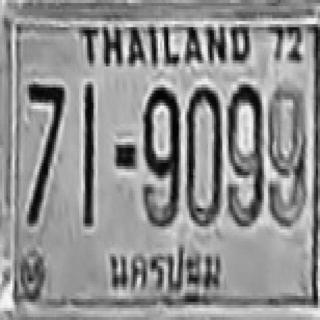N00: (266, 82, 306, 224), (141, 85, 179, 223), (185, 85, 220, 223)
N01: (82, 82, 94, 224)
N07: (26, 82, 64, 224)
N09: (266, 82, 306, 224), (224, 82, 262, 224), (141, 83, 179, 225)
P28: (105, 239, 230, 306)
